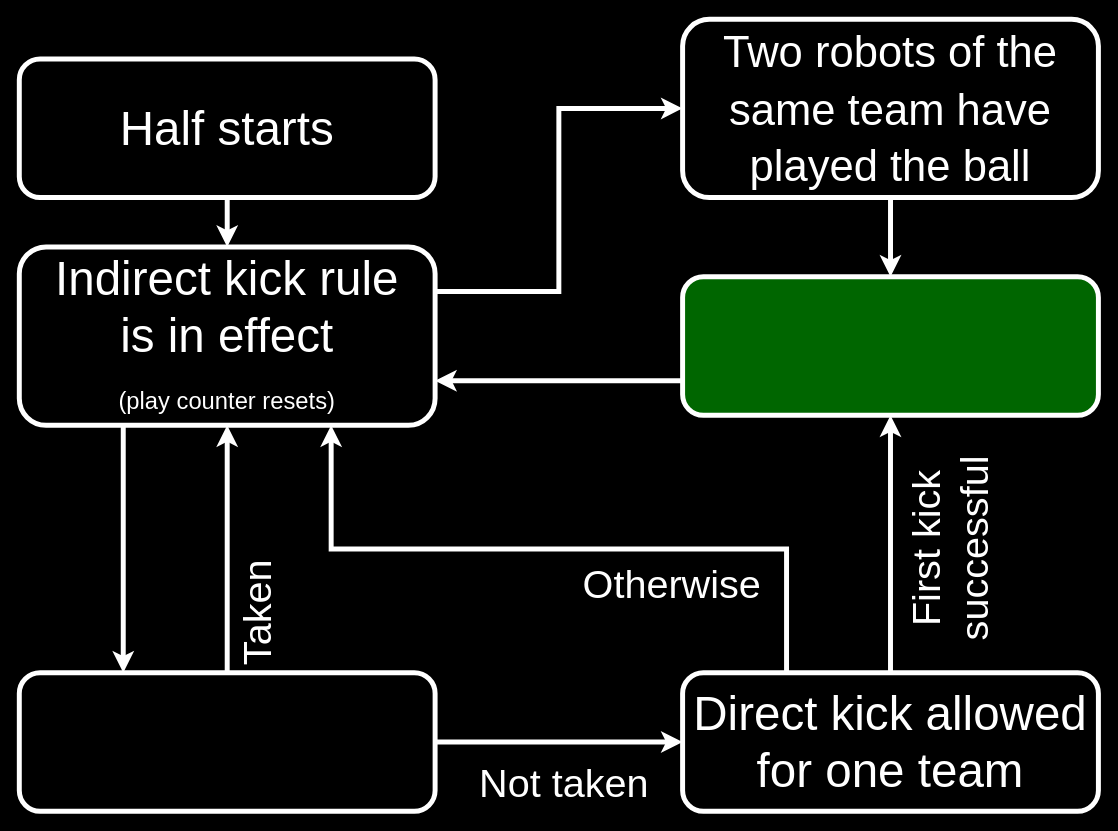
Some shapes in this 1118 by 831 pixel diagram are drawn without their labels. The shapes that lost their labels are listed below. From the top down, each one's box as (x1, y1, x2, y2) in pixels, then its label:
(680, 274, 1100, 417): Goal scored
(16, 670, 437, 813): Free kick
